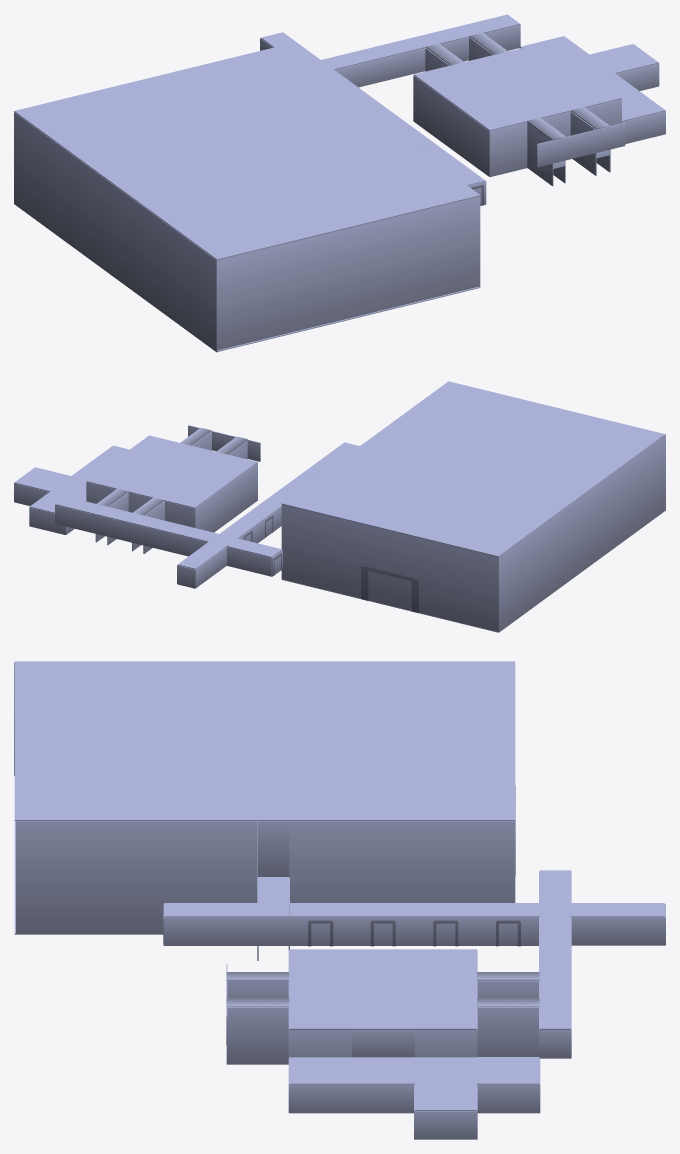
File: ClosedScene.glb
3 renders of one model, top to bottom at view 1: azimuth 30°, elevation 25°; view 2: azimuth 150°, elevation 25°; view 3: azimuth 270°, elevation 25°, orthographic. The views are drawn at different scales.
Parts seen in each view (by area): view 1: #O-B# (×20); view 2: #O-B# (×19), wall-doorway; view 3: #O-B# (×25).
Boxes of the visible parts, box(x1,y1,x2,y2) form: #O-B# (×20): box(14, 14, 665, 352); #O-B# (×19): box(14, 381, 665, 632); wall-doorway: box(361, 566, 418, 613); #O-B# (×25): box(14, 661, 665, 1139).
Size of the model in its own units: 138 by 20.2 by 104.
6 materials, 6 textured.
